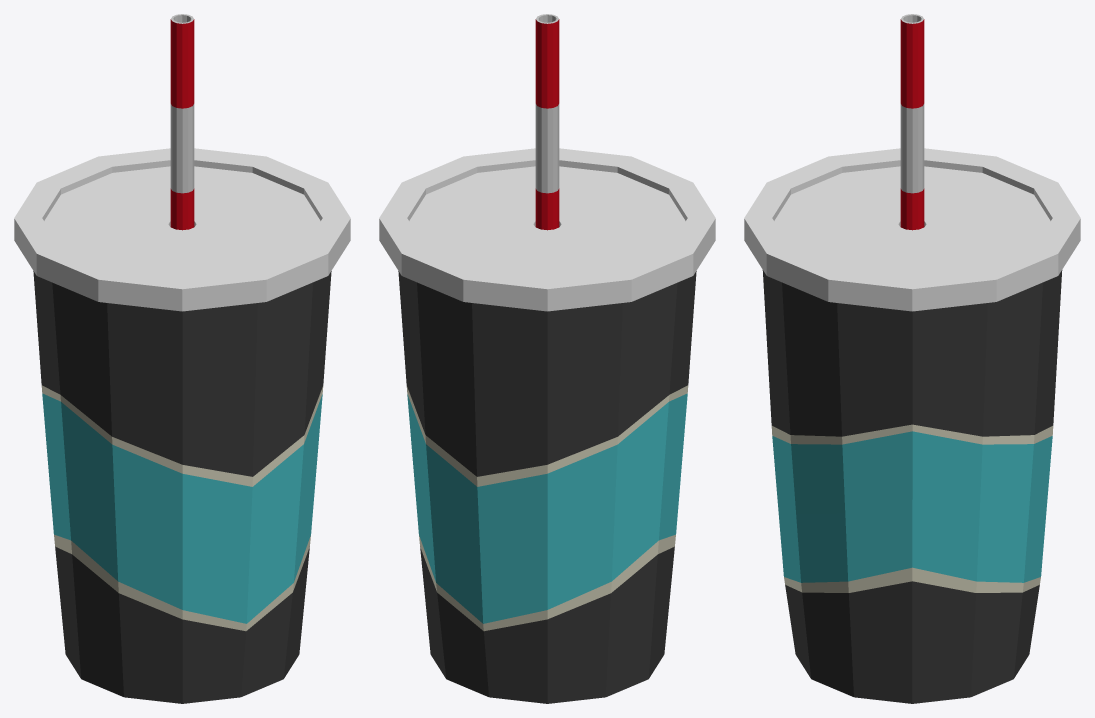
Rendered from Cup.fbx.
The picture shows the model from 3 angles, left to right: view 1: azimuth 30°, elevation 25°; view 2: azimuth 150°, elevation 25°; view 3: azimuth 270°, elevation 25°; orthographic projection.
Visible parts, largest first — view 1: Cup, Cup Lid, Straw; view 2: Cup, Cup Lid, Straw; view 3: Cup, Cup Lid, Straw.
Part boxes in pixels (x1=…): Cup: x1=33, y1=271, x2=331, y2=703; Cup Lid: x1=14, y1=148, x2=350, y2=311; Straw: x1=170, y1=14, x2=194, y2=230; Cup: x1=398, y1=271, x2=696, y2=703; Cup Lid: x1=379, y1=148, x2=715, y2=311; Straw: x1=535, y1=14, x2=559, y2=230; Cup: x1=762, y1=270, x2=1062, y2=703; Cup Lid: x1=744, y1=148, x2=1080, y2=311; Straw: x1=900, y1=14, x2=924, y2=230.
Bounding box in the file's own units: 144 × 300 × 144.
